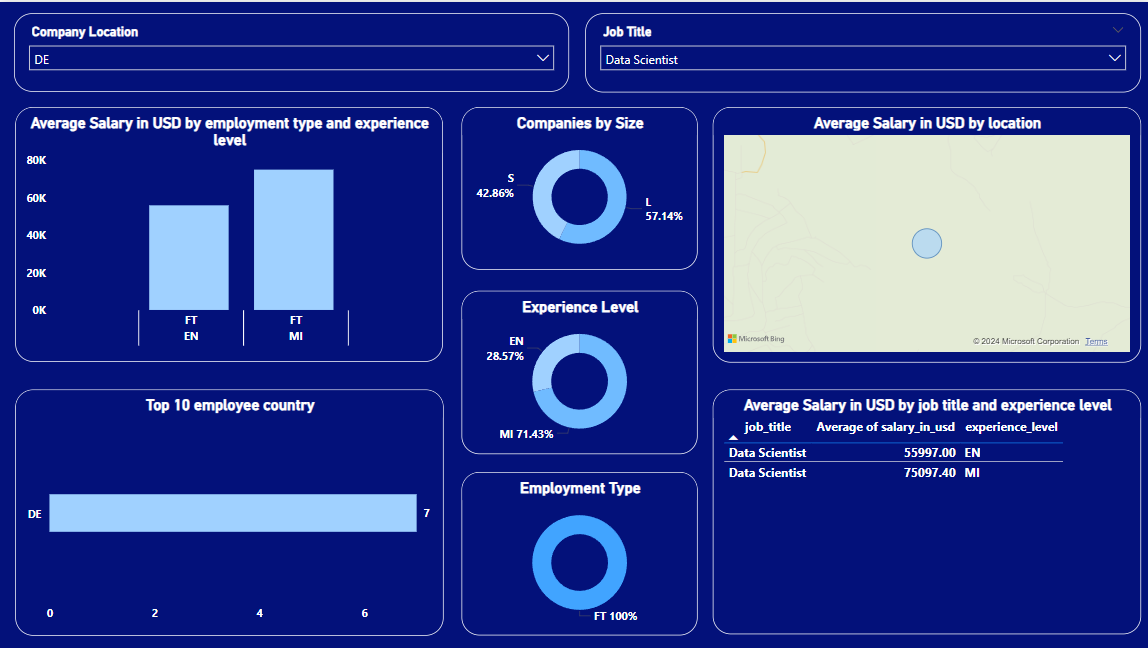

This screenshot's page, from the dashboard's own definition file:
{"tool":"powerbi","page":{"name":"Page 1","canvas":[1280,720],"ordinal":0},"visuals":[{"type":"slicer","fields":{"Values":["ds_salaries.company_location"]},"box":[17,12.5,617,87.5],"z":0},{"type":"slicer","fields":{"Values":["ds_salaries.job_title"]},"box":[651.5,12.1,617.7,88.1],"z":1000},{"type":"donutChart","title":"Companies by Size","fields":{"Category":["ds_salaries.company_size"],"Y":["CountNonNull(ds_salaries.company_size)"]},"box":[513.9,116.7,262.5,180.6],"z":2000},{"type":"donutChart","title":"Employment Type","fields":{"Category":["ds_salaries.employment_type"],"Y":["CountNonNull(ds_salaries.employment_type)"]},"box":[513.9,522.2,262.5,181.9],"z":3000},{"type":"donutChart","title":"Experience Level","fields":{"Category":["ds_salaries.experience_level"],"Y":["CountNonNull(ds_salaries.experience_level)"]},"box":[513.9,320.8,262.5,181.9],"z":4000},{"type":"columnChart","title":"Average Salary in USD by employment type and experience level","fields":{"Category":["ds_salaries.experience_level","ds_salaries.employment_type"],"Y":["Avg(ds_salaries.salary_in_usd)"]},"box":[18.1,117,475.3,283.5],"z":4001},{"type":"map","title":"Average Salary in USD by location","fields":{"Size":["Avg(ds_salaries.salary_in_usd)"],"Category":["ds_salaries.company_location"]},"box":[793.3,117.3,476,284],"z":4002},{"type":"clusteredBarChart","title":"Top 10 employee country","fields":{"Category":["ds_salaries.company_location"],"Y":["CountNonNull(ds_salaries.company_location)"]},"box":[18.1,430.6,476.4,273.6],"z":4003},{"type":"tableEx","title":"Average Salary in USD by job title and experience level","fields":{"Values":["ds_salaries.job_title","Avg(ds_salaries.salary_in_usd)","ds_salaries.experience_level"]},"box":[793.1,430.6,476.4,272.2],"z":4004}]}

Visuals, with their boxes in screenshot pixels (x1, y1, x2, y2), scaled from the page's 1280x720 canvas onto the 1148x648 screenshot:
slicer - ds_salaries.company_location: {"left": 15, "top": 11, "right": 569, "bottom": 90}
slicer - ds_salaries.job_title: {"left": 584, "top": 11, "right": 1138, "bottom": 90}
"Companies by Size" donutChart: {"left": 461, "top": 105, "right": 696, "bottom": 268}
"Employment Type" donutChart: {"left": 461, "top": 470, "right": 696, "bottom": 634}
"Experience Level" donutChart: {"left": 461, "top": 289, "right": 696, "bottom": 452}
"Average Salary in USD by employment type and experience level" columnChart: {"left": 16, "top": 105, "right": 443, "bottom": 360}
"Average Salary in USD by location" map: {"left": 711, "top": 106, "right": 1138, "bottom": 361}
"Top 10 employee country" clusteredBarChart: {"left": 16, "top": 388, "right": 444, "bottom": 634}
"Average Salary in USD by job title and experience level" tableEx: {"left": 711, "top": 388, "right": 1139, "bottom": 633}
